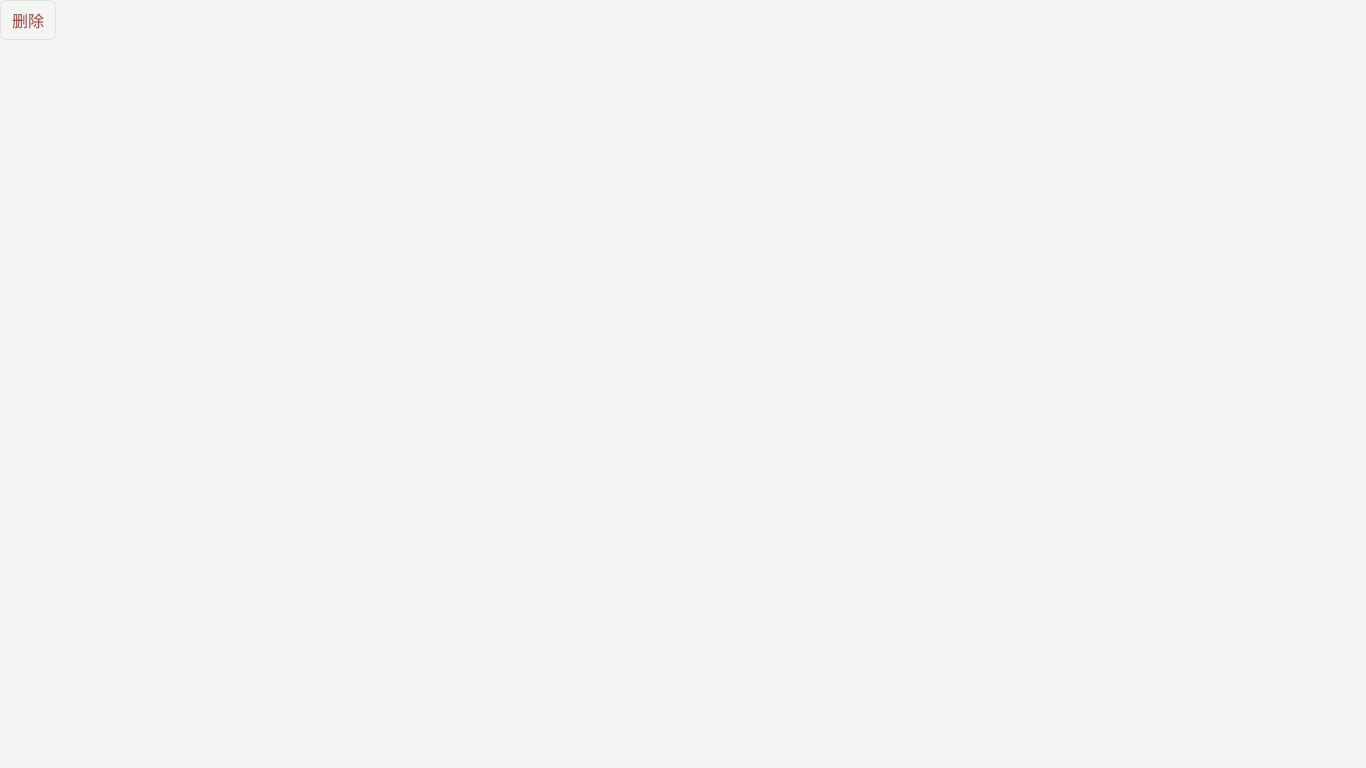
Test: permanent novel deletion › requires the complete title and submits the exact preview binding
Later steps or results of the test are not shown.
Click the button with aria-label "永久删除小说 测试小说" at (28, 20), box [0,0,56,40]
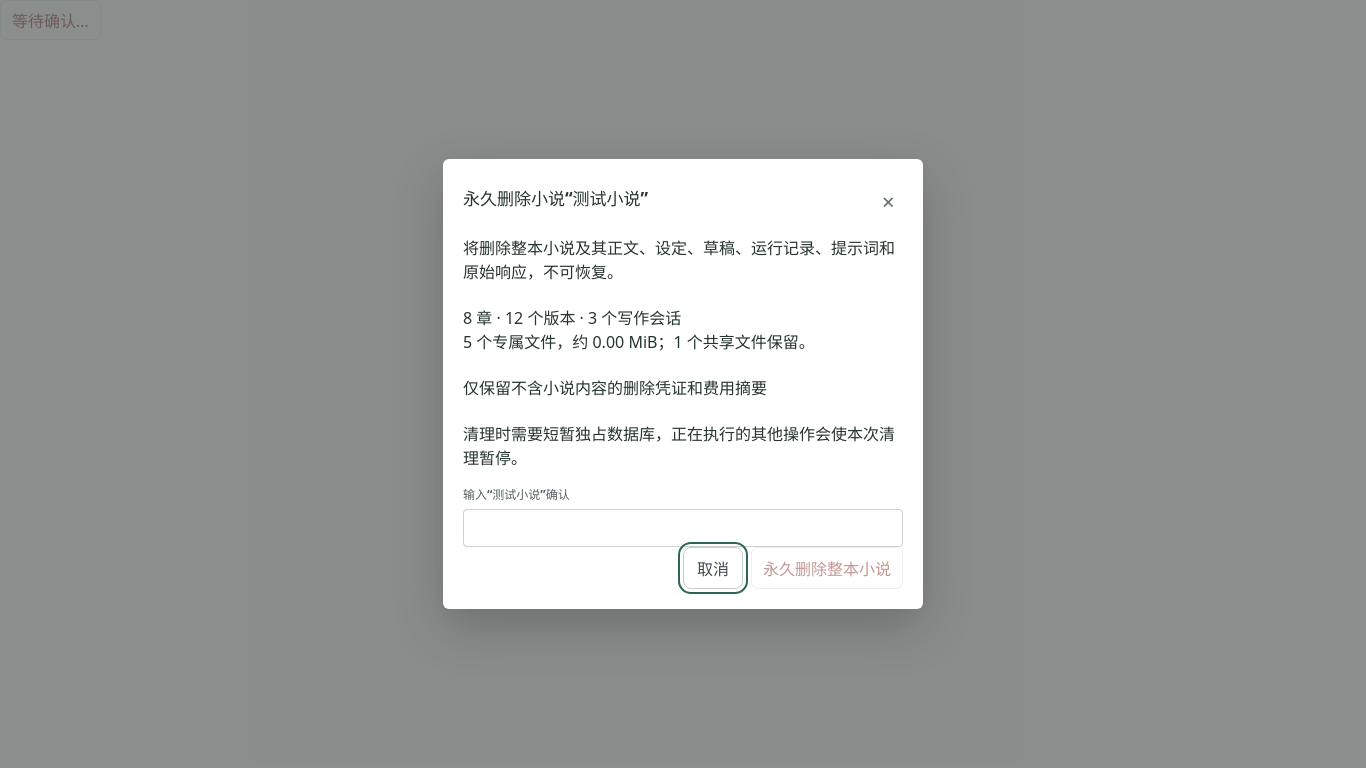
expect the button "永久删除整本小说" is disabled: met, box [751,547,903,589]
Type "测试" into the field at (683, 528), box [463,509,903,547]
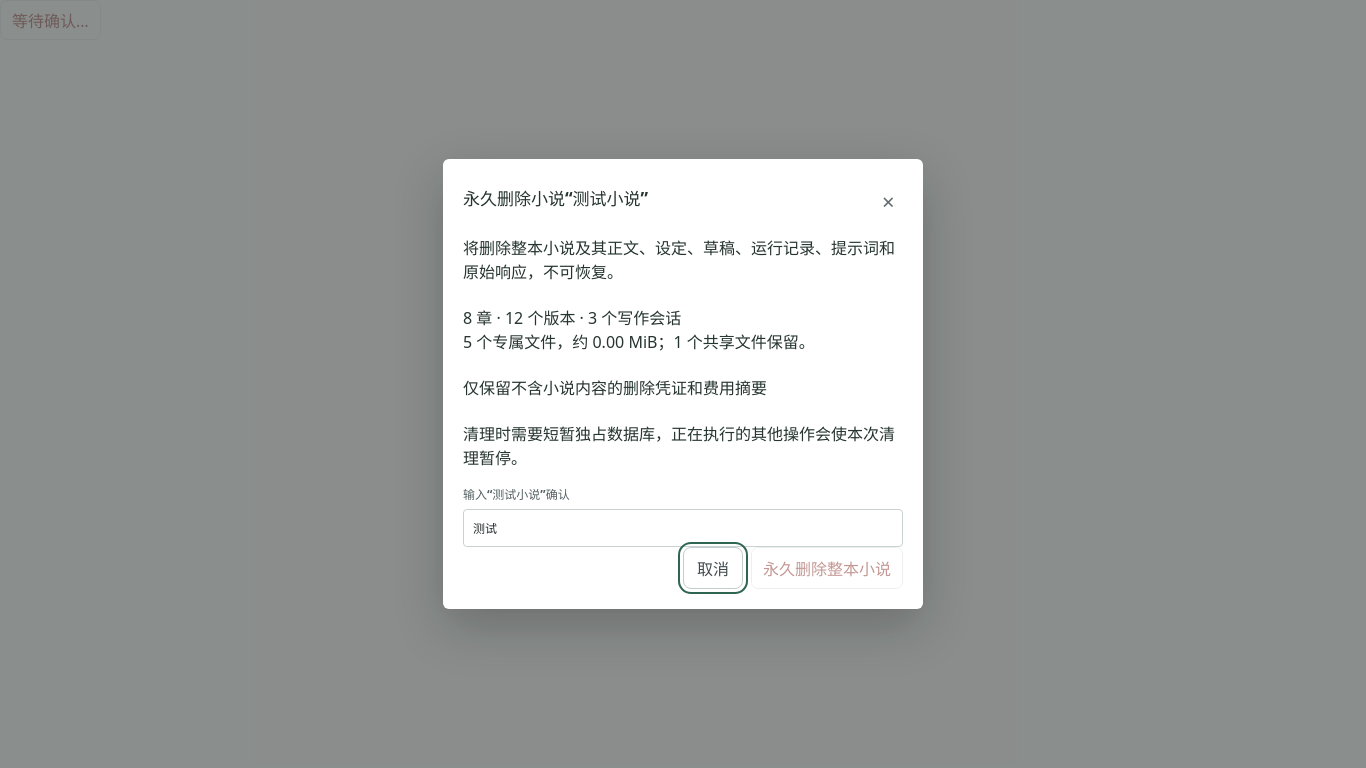
expect the button "永久删除整本小说" is disabled: met, box [751,547,903,589]
